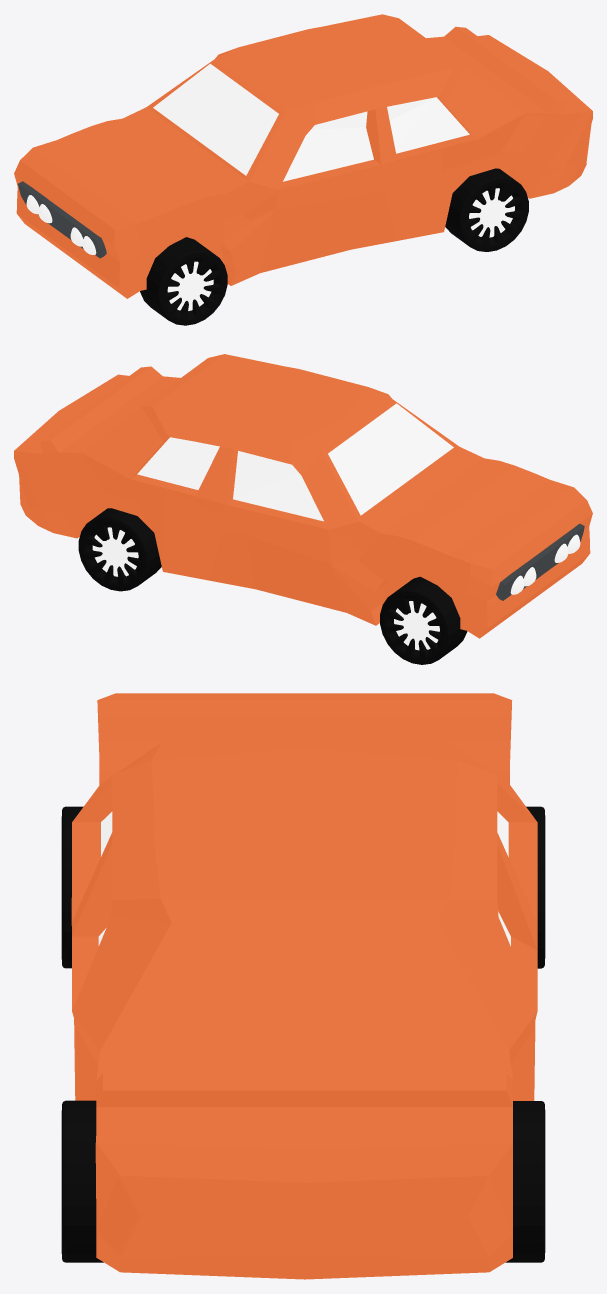
File: voiture.glb
The picture shows the model from 3 angles, top to bottom: view 1: azimuth 30°, elevation 25°; view 2: azimuth 150°, elevation 25°; view 3: azimuth 270°, elevation 25°; orthographic projection. The views are drawn at different scales.
Parts seen in each view (by area): view 1: voiture_merged; view 2: voiture_merged; view 3: voiture_merged.
Part boxes in pixels (x1,y1,x2,y2): voiture_merged: (14,14,592,325); voiture_merged: (14,354,592,664); voiture_merged: (61,693,545,1279).
Size of the model in its own units: 2.81 by 0.9296 by 1.18.
